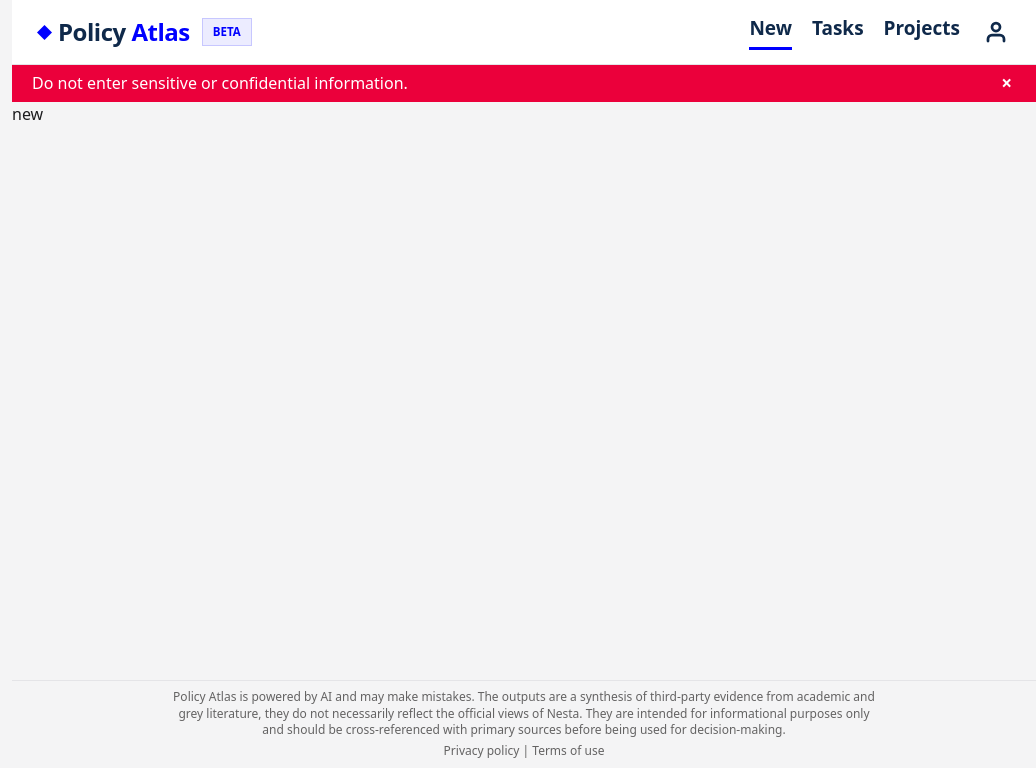
AppShell — global chrome, continued › shows a dismissible sensitivity banner under the nav
Expected: the text "Do not enter sensitive or confidential information." is shown, [32,71,408,96]
Step 1. Click the button named "Dismiss warning" → (1007, 83), box [997,74,1016,93]
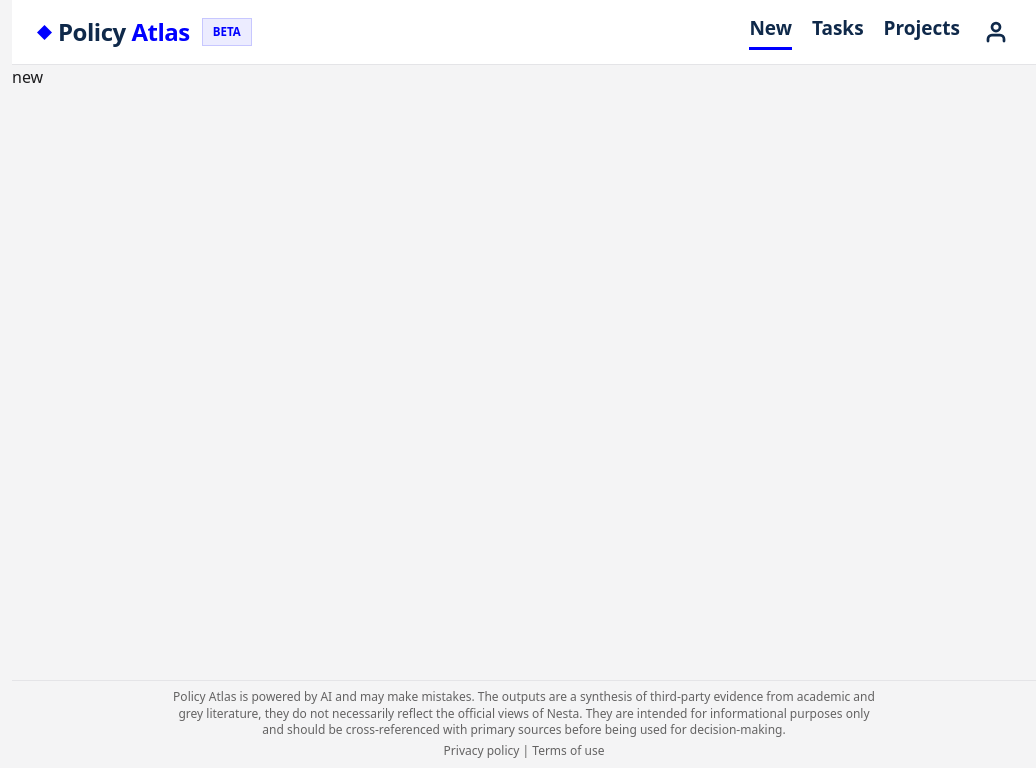
Result: the text "Do not enter sensitive or confidential information." is gone
